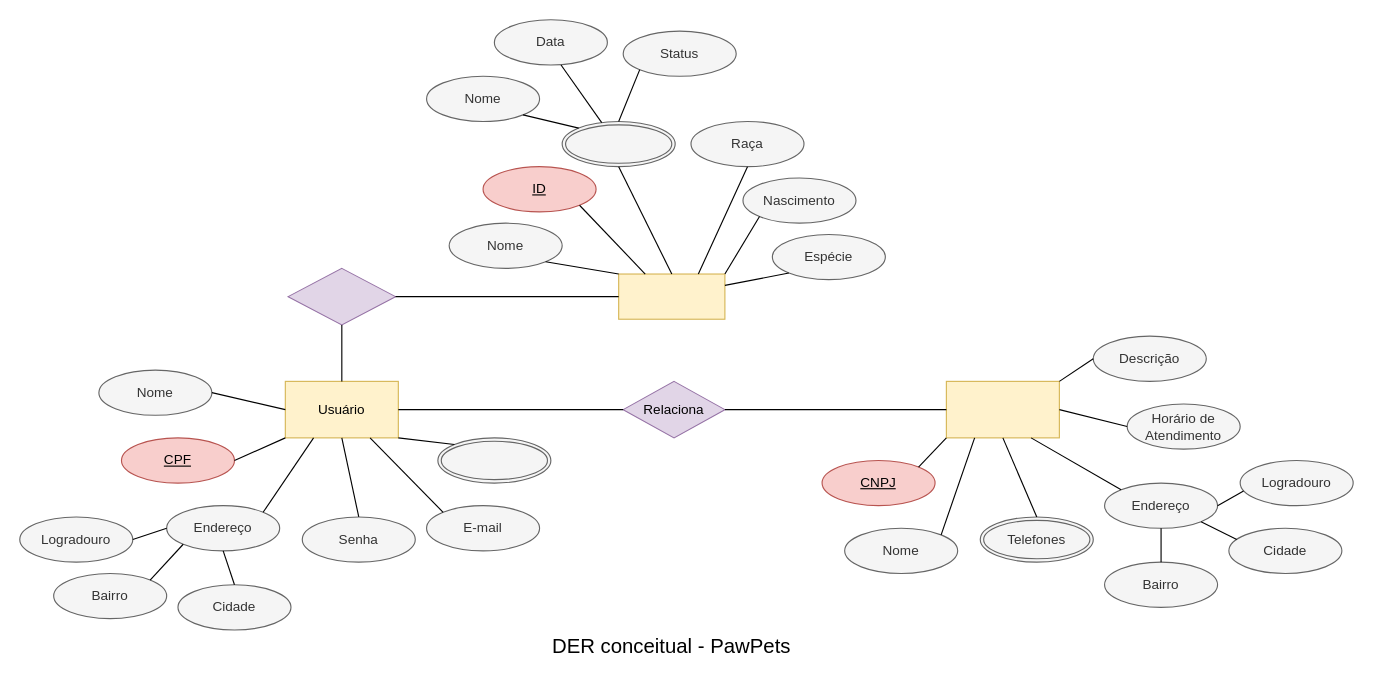
Image size: 1373x684. Some labels were removed from this diagram. The box of each missing label's shape, as (x1, y1, x2, y2) in pixels:
Empresa: (945, 380, 1059, 438)
Pet: (618, 273, 725, 319)
Possui: (287, 267, 395, 325)
Telefone: (437, 437, 551, 483)
Vacinas: (561, 120, 675, 167)
